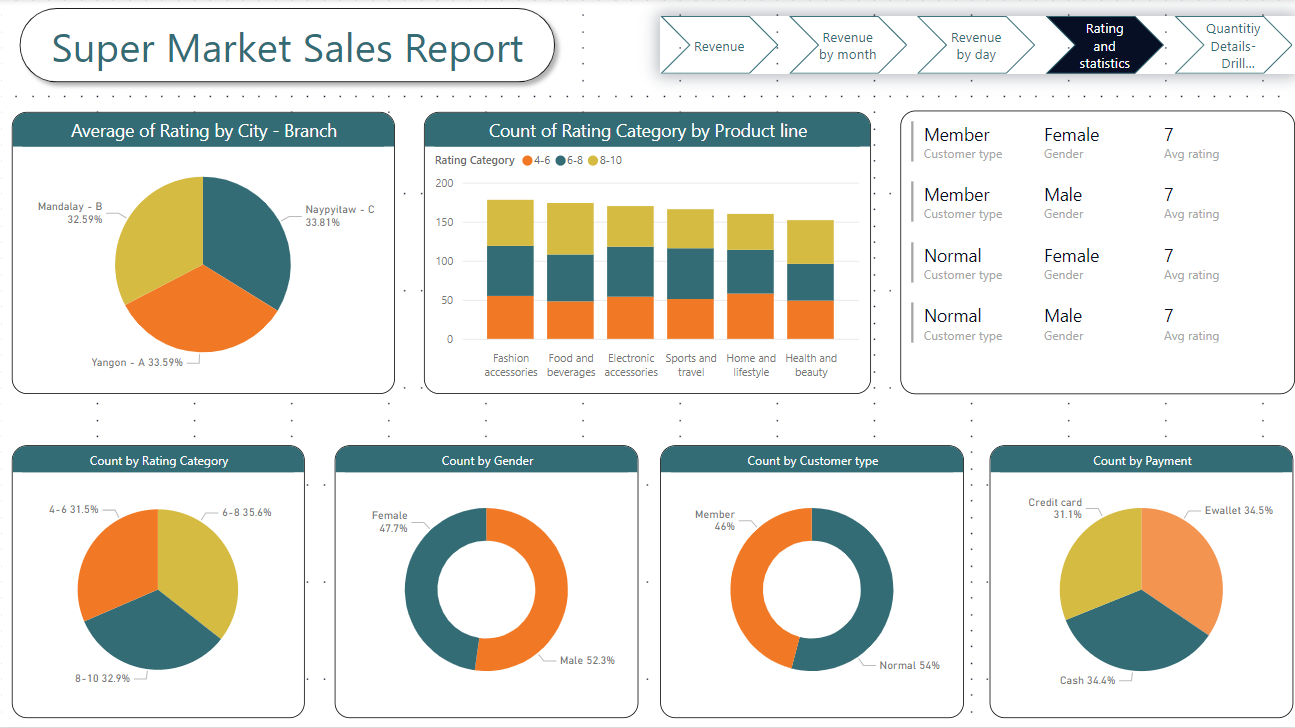

The page's visual inventory and layout, read from the dashboard file:
{"tool":"powerbi","page":{"name":"Rating and statistics","canvas":[1280,720],"ordinal":3},"visuals":[{"type":"pieChart","title":"Count by Rating Category","fields":{"Category":["SuperMarket Sales Final.Rating Category"],"Y":["CountNonNull(SuperMarket Sales Final.Rating Category)"]},"box":[11.1,441,289.4,269.9],"z":0},{"type":"multiRowCard","fields":{"Values":["SuperMarket Sales Final.Customer type","SuperMarket Sales Final.Gender","DimDate.Avg rating"]},"box":[889.5,110.2,390.2,280.1],"z":1000},{"type":"donutChart","title":"Count by Gender ","fields":{"Y":["CountNonNull(SuperMarket Sales Final.Gender)"],"Category":["SuperMarket Sales Final.Gender"]},"box":[331.1,441,300.5,269.9],"z":2000},{"type":"donutChart","title":"Count by Customer  type","fields":{"Y":["CountNonNull(SuperMarket Sales Final.Customer type)"],"Category":["SuperMarket Sales Final.Customer type"]},"box":[652.5,441,300.5,269.9],"z":3000},{"type":"pieChart","title":"Count by Payment","fields":{"Category":["SuperMarket Sales Final.Payment"],"Y":["CountNonNull(SuperMarket Sales Final.Payment)"]},"box":[978.1,441,300.5,269.9],"z":4000},{"type":"columnChart","title":"Count of Rating Category by Product line ","fields":{"Category":["SuperMarket Sales Final.Product line"],"Series":["SuperMarket Sales Final.Rating Category"],"Y":["CountNonNull(SuperMarket Sales Final.Rating Category)"]},"box":[418.6,111,441.6,278.7],"z":5000},{"type":"pieChart","fields":{"Category":["SuperMarket Sales Final.City - Branch"],"Y":["Avg(SuperMarket Sales Final.Rating)"]},"box":[11.7,111.3,378.5,278.9],"z":6000},{"type":"pageNavigator","box":[652.4,16.7,627.4,57.1],"z":7000},{"type":"shape","box":[10.5,0,547.3,91.4],"z":8000}]}

Visuals, with their boxes in screenshot pixels (x1, y1, x2, y2), scaled from the page's 1280x720 canvas onto the 1295x728 screenshot:
"Count by Rating Category" pieChart: (11,446,304,719)
multiRowCard - SuperMarket Sales Final.Customer type x SuperMarket Sales Final.Gender: (900,111,1294,395)
"Count by Gender " donutChart: (335,446,639,719)
"Count by Customer  type" donutChart: (660,446,964,719)
"Count by Payment" pieChart: (990,446,1294,719)
"Count of Rating Category by Product line " columnChart: (424,112,870,394)
pieChart - SuperMarket Sales Final.City - Branch x Avg(SuperMarket Sales Final.Rating): (12,113,395,395)
pageNavigator: (660,17,1294,75)
shape: (11,0,564,92)
